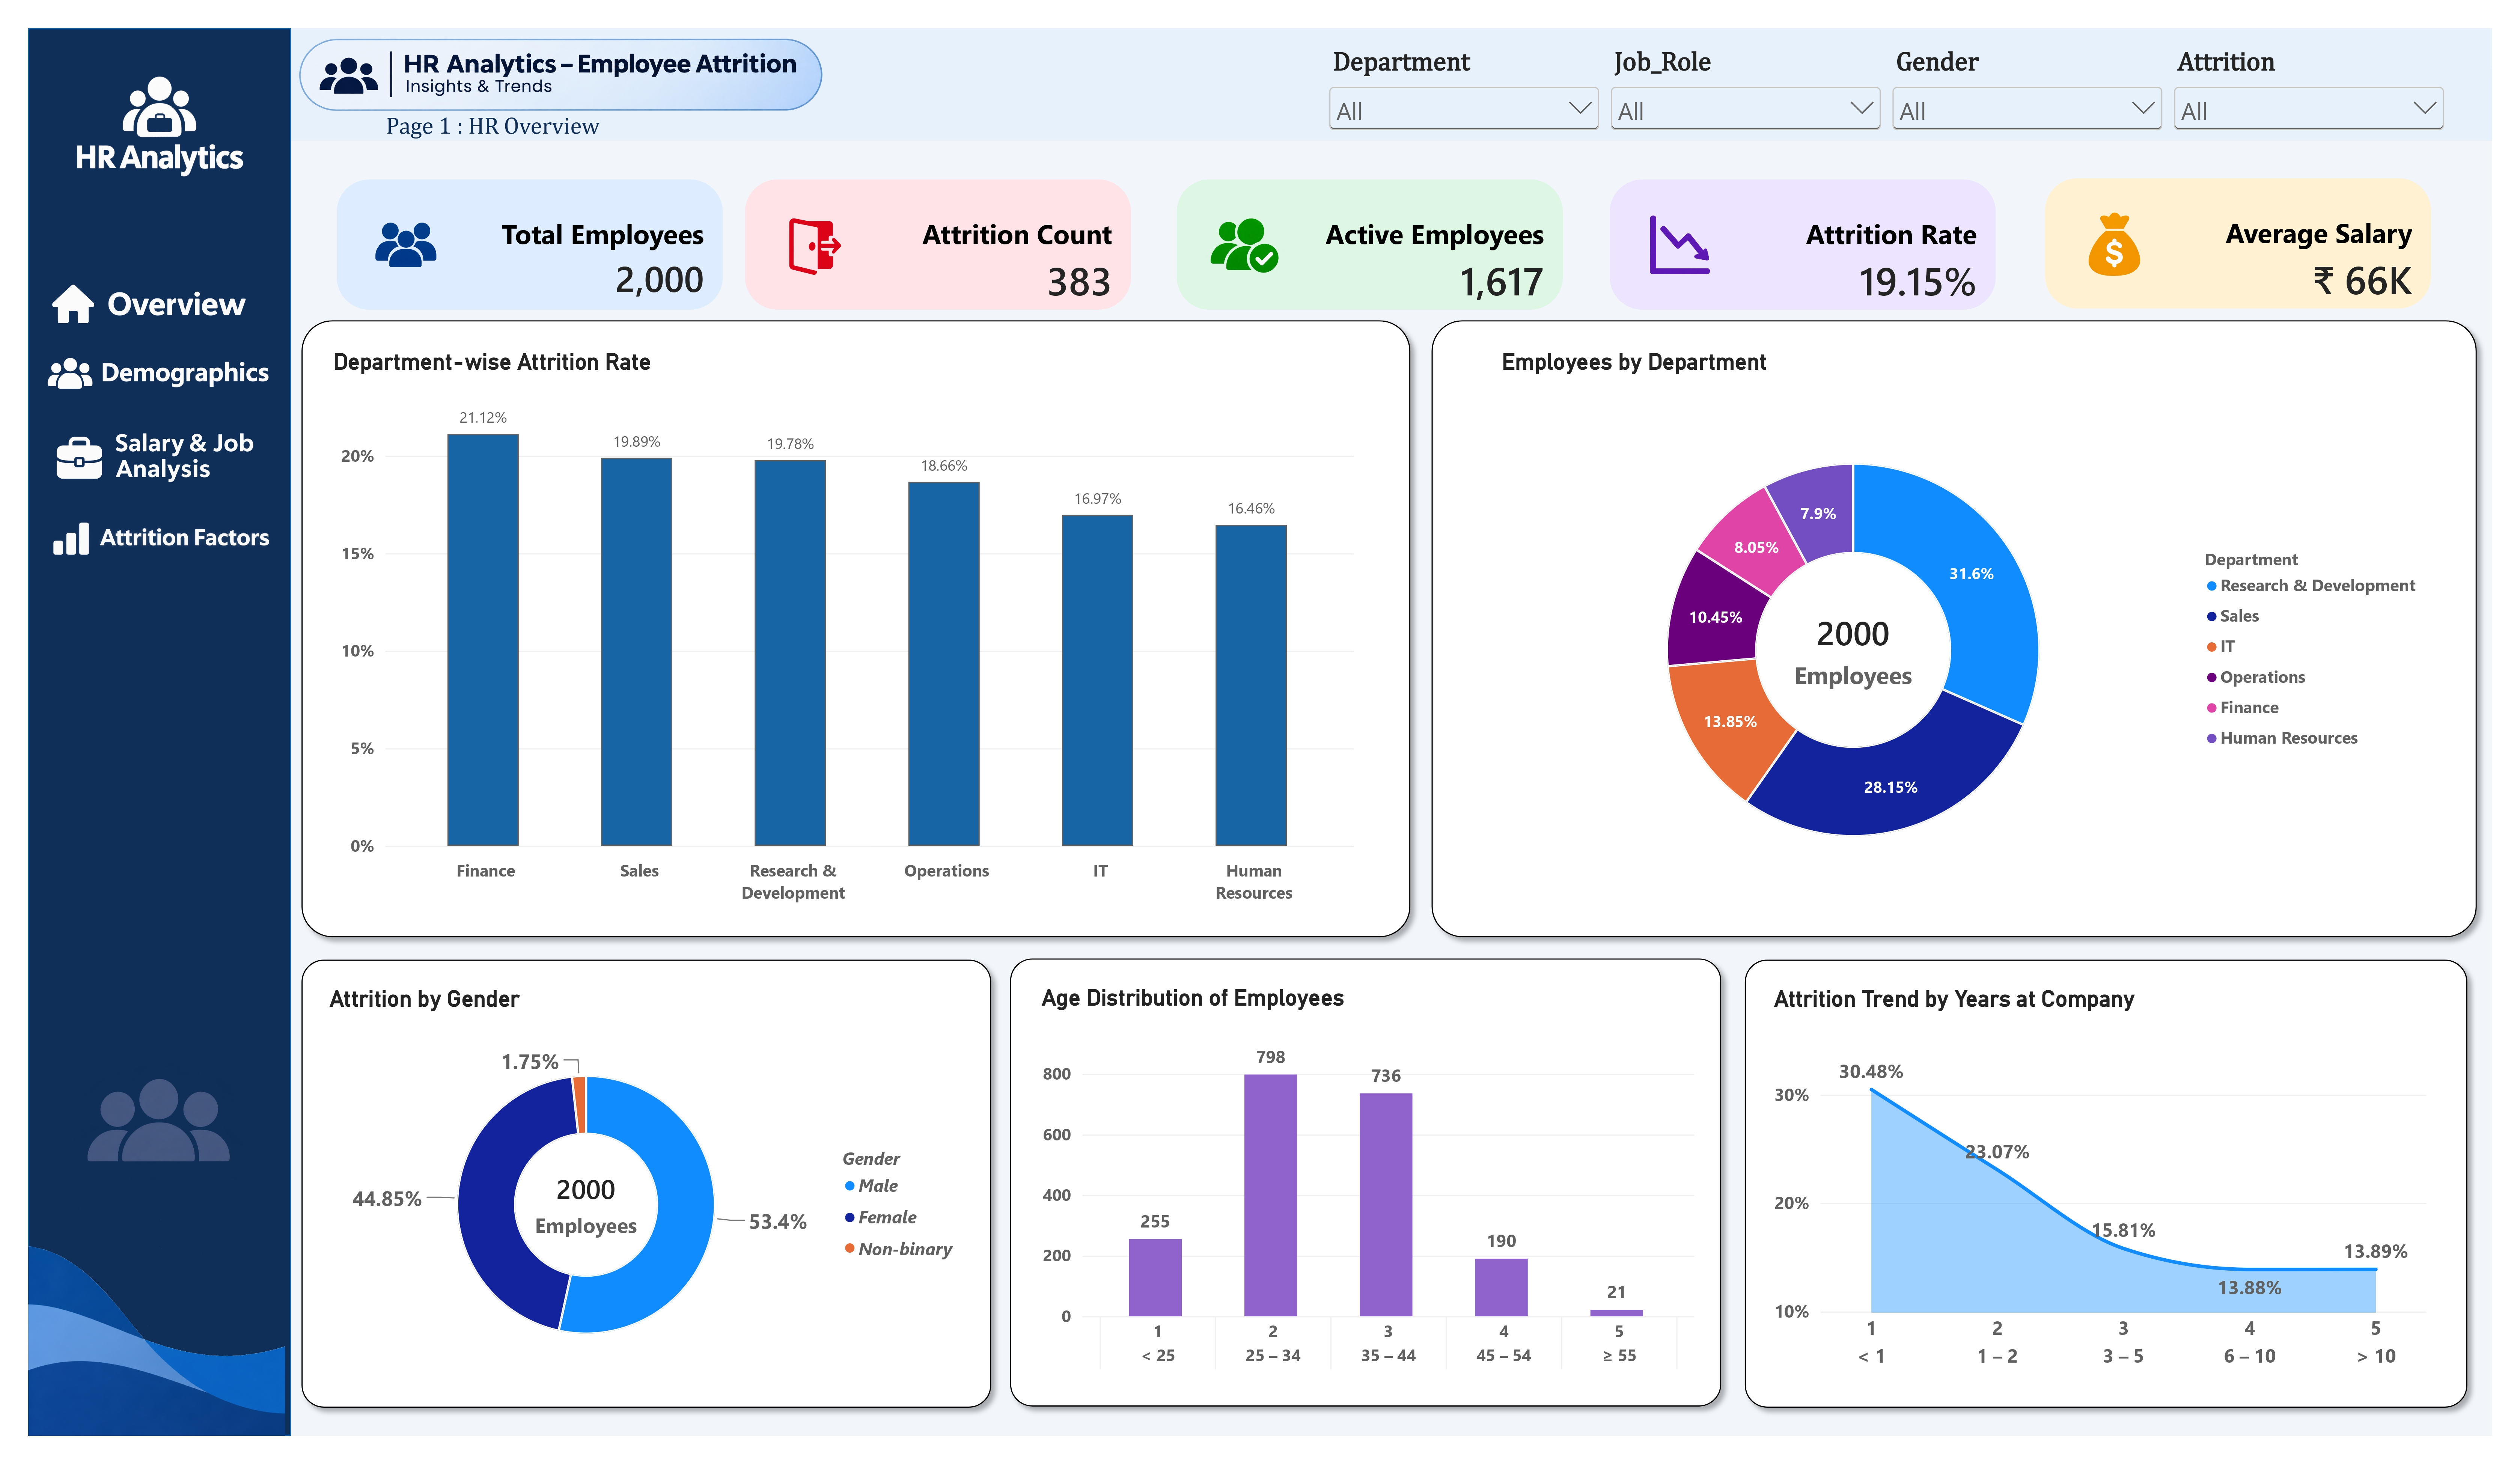

The dashboard page shown, as its layout file describes it:
{"tool":"powerbi","page":{"name":"Overview","canvas":[2100,1200],"ordinal":0},"visuals":[{"type":"shape","box":[0,0,224,1200],"z":0,"group":"g1"},{"type":"shape","box":[224,0,1876,96],"z":0},{"type":"shape","box":[1719.1,128,328.3,111.1],"z":0,"group":"g11"},{"type":"shape","box":[263.5,128.9,328.3,111.1],"z":0,"group":"g7"},{"type":"shape","box":[611.5,128.9,328.3,111.1],"z":0,"group":"g8"},{"type":"shape","box":[979.9,128.9,328.3,111.1],"z":0,"group":"g9"},{"type":"shape","box":[1348.3,128.9,328.3,111.1],"z":0,"group":"g10"},{"type":"image","box":[0,0,224,160],"z":1000,"group":"g1"},{"type":"image","box":[226,4,456,72],"z":1000},{"type":"cardVisual","fields":{"Data":["HR_Employee_Data.Average Salary"]},"box":[1791.6,144,256,96],"z":1000,"group":"g11"},{"type":"cardVisual","fields":{"Data":["HR_Employee_Data.Total Employees"]},"box":[336,144.9,256,96],"z":1000,"group":"g7"},{"type":"cardVisual","fields":{"Data":["HR_Employee_Data.Attrition Count"]},"box":[684,144.9,256,96],"z":1000,"group":"g8"},{"type":"cardVisual","fields":{"Data":["HR_Employee_Data.Active Employees"]},"box":[1020.4,144.9,288,96],"z":1000,"group":"g9"},{"type":"cardVisual","fields":{"Data":["HR_Employee_Data.Attrition Rate"]},"box":[1420.8,144.9,256,96],"z":1000,"group":"g10"},{"type":"textbox","title":"Page 1 : HR Overview","box":[305,73,192,24],"z":2000},{"type":"image","box":[1695.6,143.9,164.2,79.4],"z":2000,"group":"g11"},{"type":"image","box":[240,144.8,164.2,79.4],"z":2000,"group":"g7"},{"type":"image","box":[588,144.8,164.2,79.4],"z":2000,"group":"g8"},{"type":"image","box":[956.4,144.8,164.2,79.4],"z":2000,"group":"g9"},{"type":"image","box":[1324.8,144.8,164.2,79.4],"z":2000,"group":"g10"},{"type":"image","box":[0,848,224,160],"z":2000,"group":"g1"},{"type":"group","id":"g1","title":"Group 2","box":[0,0,224,1208],"z":3000},{"type":"slicer","fields":{"Values":["HR_Employee_Data.Department"]},"box":[1104,16,240,96],"z":3000,"group":"g5"},{"type":"image","box":[0,912,219,296],"z":3000,"group":"g1"},{"type":"slicer","fields":{"Values":["HR_Employee_Data.Job_Role"]},"box":[1344,16,240,96],"z":4000,"group":"g5"},{"type":"group","id":"g2","title":"Group 7","box":[224,784,1872,400],"z":4000},{"type":"slicer","fields":{"Values":["HR_Employee_Data.Gender"]},"box":[1584,16,240,96],"z":5000,"group":"g5"},{"type":"group","id":"g3","title":"Group 8","box":[224,240,1872,544],"z":5000},{"type":"slicer","fields":{"Values":["HR_Employee_Data.Attrition"]},"box":[1824,16,240,96],"z":6000,"group":"g5"},{"type":"group","id":"g4","title":"Group 9","box":[240,128,1807.6,112.9],"z":6000},{"type":"group","id":"g5","title":"Group 9","box":[1104,16,960,96],"z":6001},{"type":"image","box":[0,200,222.5,70],"z":6002,"group":"g6"},{"type":"image","box":[0,260,222.5,70],"z":6003,"group":"g6"},{"type":"image","box":[0,330,222.5,70],"z":6004,"group":"g6"},{"type":"image","box":[0,400,222.5,70],"z":6005,"group":"g6"},{"type":"group","id":"g6","title":"Group 10","box":[0,200,222.5,270],"z":6006},{"type":"group","id":"g7","title":"Group 1","box":[240,128.9,352,112],"z":7000,"group":"g4"},{"type":"group","id":"g8","title":"Group 1","box":[588,128.9,352,112],"z":8000,"group":"g4"},{"type":"group","id":"g9","title":"Group 1","box":[956.4,128.9,352,112],"z":9000,"group":"g4"},{"type":"group","id":"g10","title":"Group 1","box":[1324.8,128.9,352,112],"z":10000,"group":"g4"},{"type":"group","id":"g11","title":"Group 1","box":[1695.6,128,352,112],"z":11000,"group":"g4"},{"type":"shape","box":[224,240,962.7,544],"z":13000,"group":"g12"},{"type":"shape","box":[1186.7,240,909.3,544],"z":13000,"group":"g3"},{"type":"group","id":"g12","title":"Group 3","box":[224,240,962.7,544],"z":14000,"group":"g3"},{"type":"clusteredColumnChart","title":"Department-wise Attrition Rate","fields":{"Category":["HR_Employee_Data.Department"],"Y":["HR_Employee_Data.Attrition Rate"]},"box":[244.5,258.8,901.3,506.5],"z":14000,"group":"g12"},{"type":"shape","box":[827.9,784,624,400],"z":14000,"group":"g14"},{"type":"shape","box":[224,785.1,606.2,400],"z":14000,"group":"g13"},{"type":"donutChart","title":"Employees by Department","fields":{"Category":["HR_Employee_Data.Department"],"Y":["HR_Employee_Data.Total Employees"]},"box":[1240.2,258.8,820.1,506.5],"z":15000,"group":"g3"},{"type":"shape","box":[1454.2,785.1,634,400],"z":15000,"group":"g15"},{"type":"group","id":"g13","title":"Group 4","box":[224,785.1,606.2,400],"z":16000,"group":"g2"},{"type":"group","id":"g14","title":"Group 5","box":[827.9,784,624,400],"z":17000,"group":"g2"},{"type":"clusteredColumnChart","title":"Age Distribution of Employees","fields":{"Category":["HR_Employee_Data.Age Group","HR_Employee_Data.Age Group Sort"],"Y":["HR_Employee_Data.Total Employees"]},"box":[848,801.4,588.3,364.1],"z":17000,"group":"g14"},{"type":"lineChart","title":"Attrition Trend by Years at Company","fields":{"Category":["HR_Employee_Data.Years Group","HR_Employee_Data.Years Group Sort"],"Y":["HR_Employee_Data.Attrition Rate"]},"box":[1472,802.5,588.3,365.2],"z":17000,"group":"g15"},{"type":"group","id":"g15","title":"Group 6","box":[1454.2,785.1,634,400],"z":18000,"group":"g2"},{"type":"donutChart","title":"Attrition by Gender","fields":{"Category":["HR_Employee_Data.Gender"],"Y":["HR_Employee_Data.Total Employees"]},"box":[241.3,802.5,571.5,365.2],"z":18000,"group":"g13"}]}

Visuals, with their boxes on the page's 2100x1200 design canvas (x1, y1, x2, y2). These are canvas units, not pixel positions in the 2520x1464 screenshot, which may show the page scaled, cropped or inside an application window:
shape: [x1=0, y1=0, x2=224, y2=1200]
shape: [x1=224, y1=0, x2=2100, y2=96]
shape: [x1=1719, y1=128, x2=2047, y2=239]
shape: [x1=264, y1=129, x2=592, y2=240]
shape: [x1=612, y1=129, x2=940, y2=240]
shape: [x1=980, y1=129, x2=1308, y2=240]
shape: [x1=1348, y1=129, x2=1677, y2=240]
image: [x1=0, y1=0, x2=224, y2=160]
image: [x1=226, y1=4, x2=682, y2=76]
cardVisual - HR_Employee_Data.Average Salary: [x1=1792, y1=144, x2=2048, y2=240]
cardVisual - HR_Employee_Data.Total Employees: [x1=336, y1=145, x2=592, y2=241]
cardVisual - HR_Employee_Data.Attrition Count: [x1=684, y1=145, x2=940, y2=241]
cardVisual - HR_Employee_Data.Active Employees: [x1=1020, y1=145, x2=1308, y2=241]
cardVisual - HR_Employee_Data.Attrition Rate: [x1=1421, y1=145, x2=1677, y2=241]
"Page 1 : HR Overview" textbox: [x1=305, y1=73, x2=497, y2=97]
image: [x1=1696, y1=144, x2=1860, y2=223]
image: [x1=240, y1=145, x2=404, y2=224]
image: [x1=588, y1=145, x2=752, y2=224]
image: [x1=956, y1=145, x2=1121, y2=224]
image: [x1=1325, y1=145, x2=1489, y2=224]
image: [x1=0, y1=848, x2=224, y2=1008]
"Group 2" group: [x1=0, y1=0, x2=224, y2=1208]
slicer - HR_Employee_Data.Department: [x1=1104, y1=16, x2=1344, y2=112]
image: [x1=0, y1=912, x2=219, y2=1208]
slicer - HR_Employee_Data.Job_Role: [x1=1344, y1=16, x2=1584, y2=112]
"Group 7" group: [x1=224, y1=784, x2=2096, y2=1184]
slicer - HR_Employee_Data.Gender: [x1=1584, y1=16, x2=1824, y2=112]
"Group 8" group: [x1=224, y1=240, x2=2096, y2=784]
slicer - HR_Employee_Data.Attrition: [x1=1824, y1=16, x2=2064, y2=112]
"Group 9" group: [x1=240, y1=128, x2=2048, y2=241]
"Group 9" group: [x1=1104, y1=16, x2=2064, y2=112]
image: [x1=0, y1=200, x2=222, y2=270]
image: [x1=0, y1=260, x2=222, y2=330]
image: [x1=0, y1=330, x2=222, y2=400]
image: [x1=0, y1=400, x2=222, y2=470]
"Group 10" group: [x1=0, y1=200, x2=222, y2=470]
"Group 1" group: [x1=240, y1=129, x2=592, y2=241]
"Group 1" group: [x1=588, y1=129, x2=940, y2=241]
"Group 1" group: [x1=956, y1=129, x2=1308, y2=241]
"Group 1" group: [x1=1325, y1=129, x2=1677, y2=241]
"Group 1" group: [x1=1696, y1=128, x2=2048, y2=240]
shape: [x1=224, y1=240, x2=1187, y2=784]
shape: [x1=1187, y1=240, x2=2096, y2=784]
"Group 3" group: [x1=224, y1=240, x2=1187, y2=784]
"Department-wise Attrition Rate" clusteredColumnChart: [x1=244, y1=259, x2=1146, y2=765]
shape: [x1=828, y1=784, x2=1452, y2=1184]
shape: [x1=224, y1=785, x2=830, y2=1185]
"Employees by Department" donutChart: [x1=1240, y1=259, x2=2060, y2=765]
shape: [x1=1454, y1=785, x2=2088, y2=1185]
"Group 4" group: [x1=224, y1=785, x2=830, y2=1185]
"Group 5" group: [x1=828, y1=784, x2=1452, y2=1184]
"Age Distribution of Employees" clusteredColumnChart: [x1=848, y1=801, x2=1436, y2=1166]
"Attrition Trend by Years at Company" lineChart: [x1=1472, y1=802, x2=2060, y2=1168]
"Group 6" group: [x1=1454, y1=785, x2=2088, y2=1185]
"Attrition by Gender" donutChart: [x1=241, y1=802, x2=813, y2=1168]
